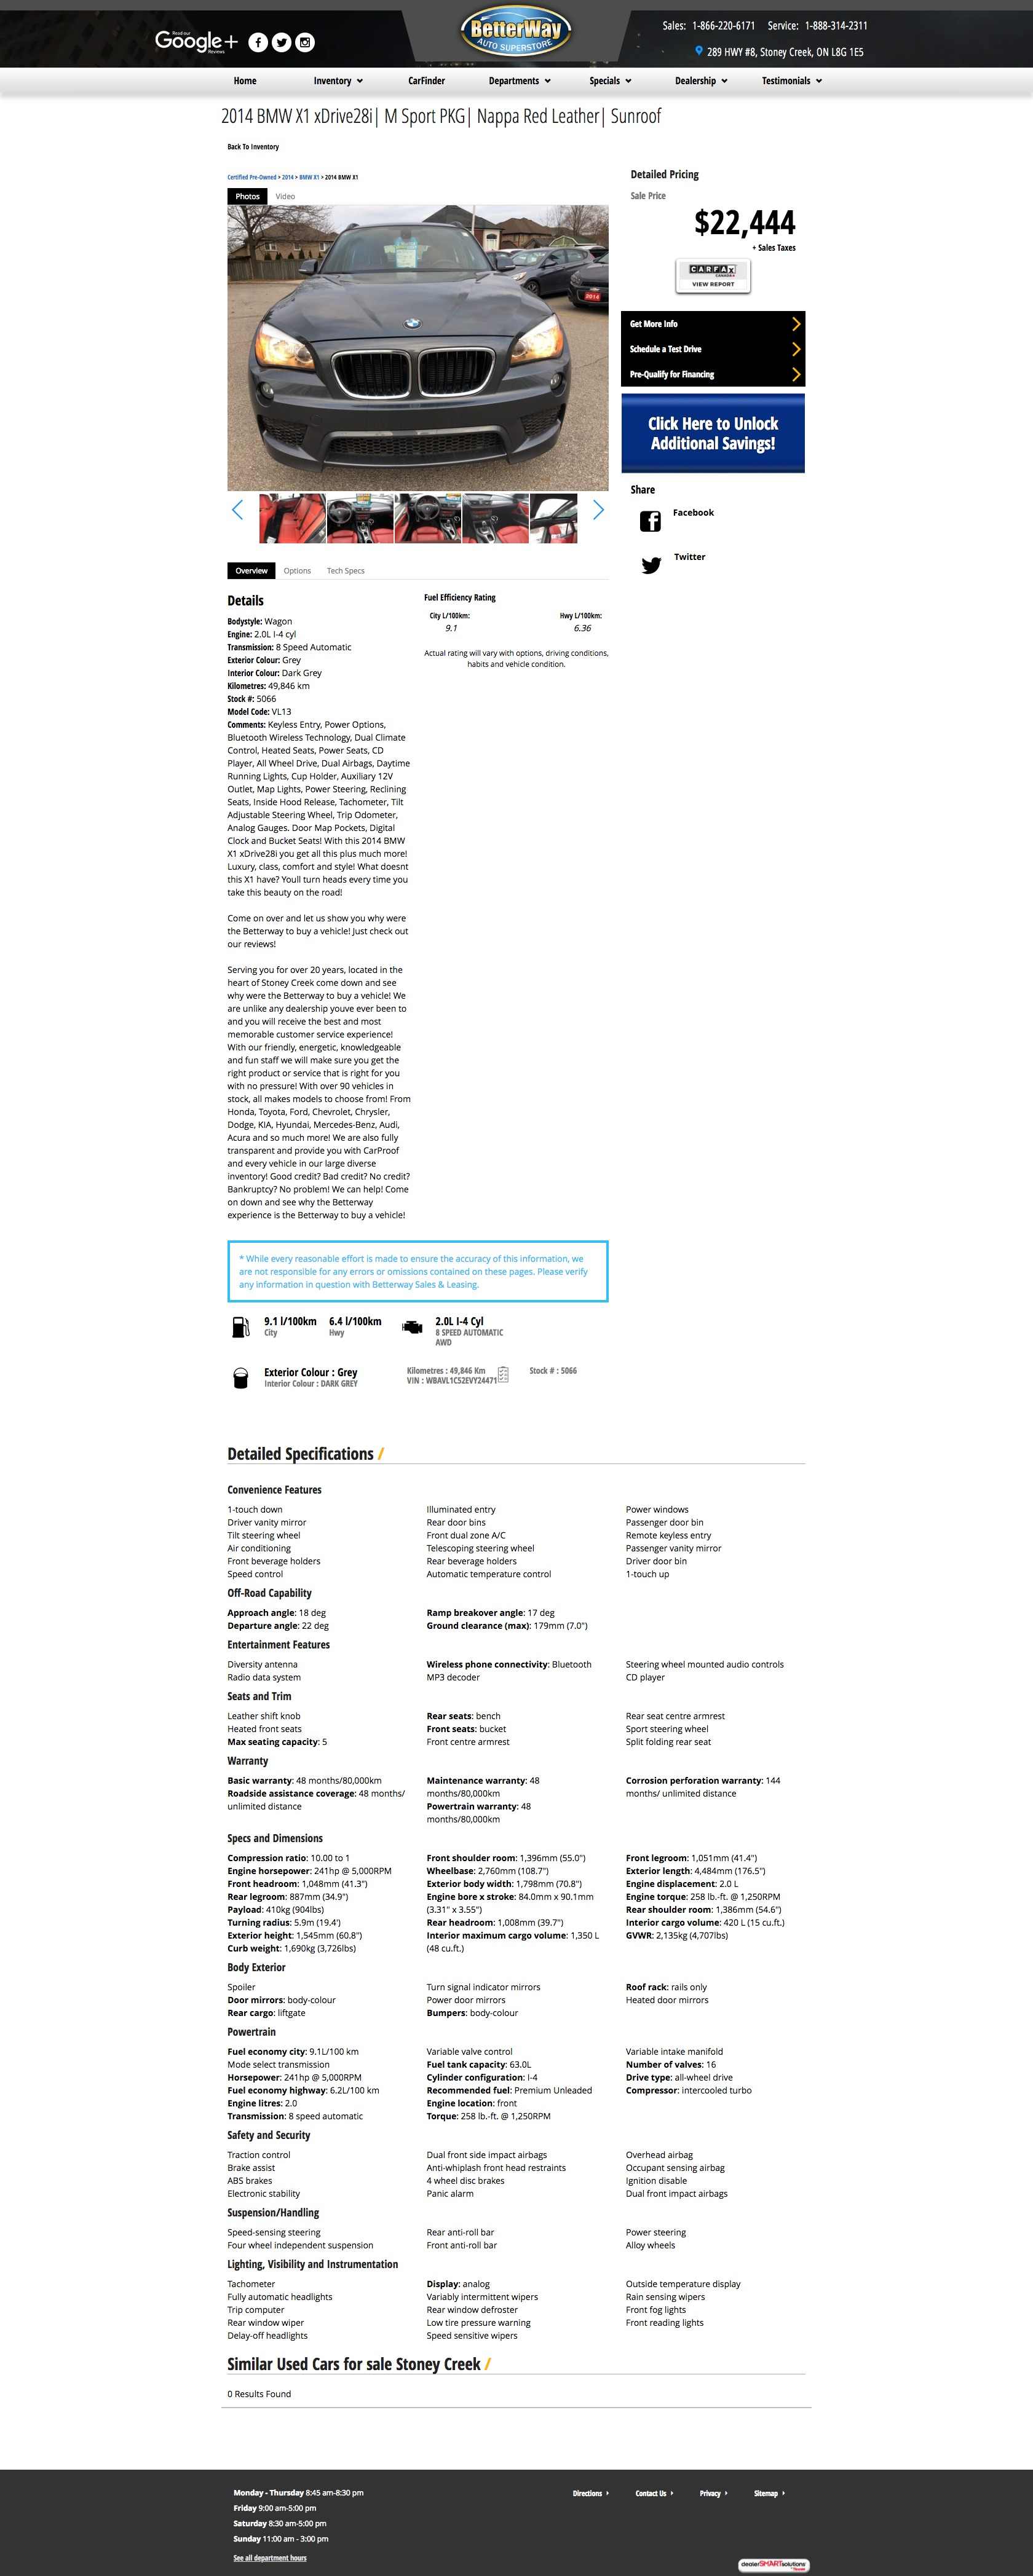car: (593, 501, 604, 521)
